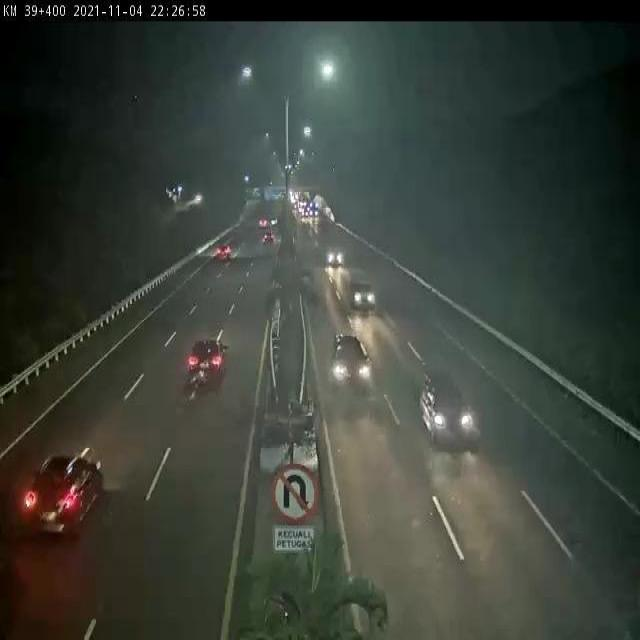car: (21, 447, 110, 540), (418, 369, 477, 444), (330, 333, 375, 392), (186, 334, 230, 390), (348, 277, 377, 311)
